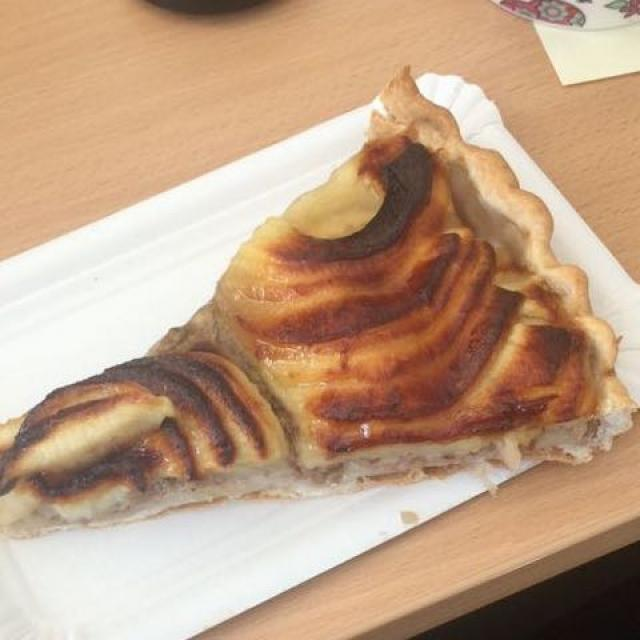apple-pie: (14, 89, 626, 530)
